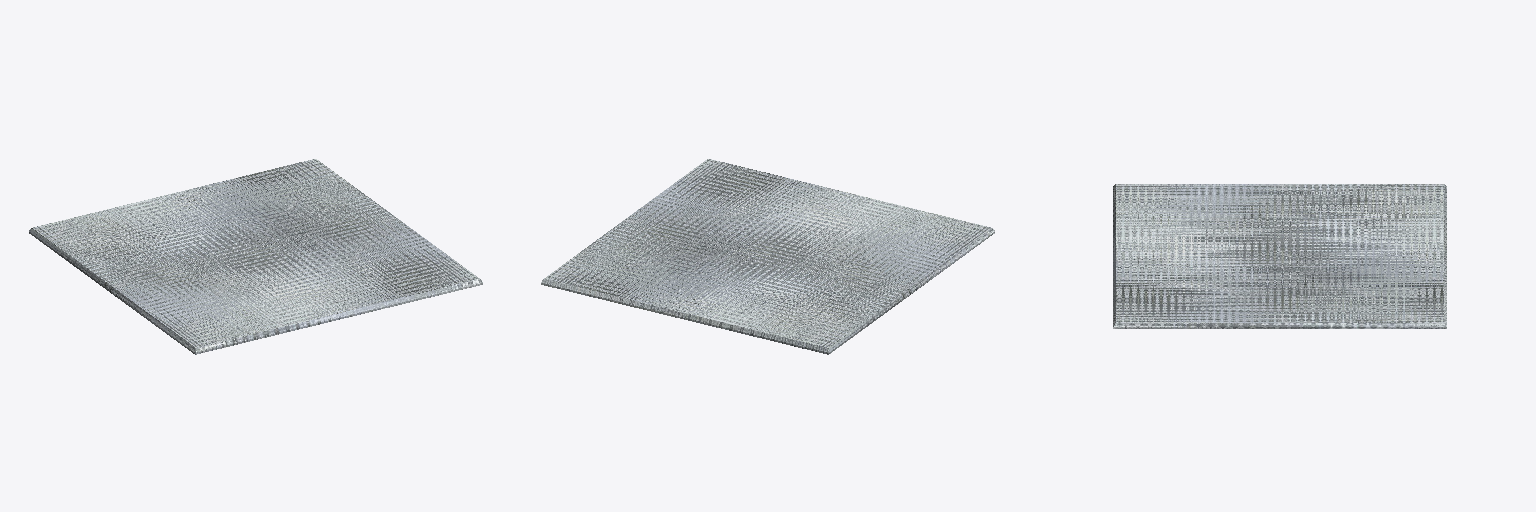
3 views of the same model, side by side, from view 1: azimuth 30°, elevation 25°; view 2: azimuth 150°, elevation 25°; view 3: azimuth 270°, elevation 25° (orthographic).
Parts seen in each view (by area): view 1: nightstand-glass; view 2: nightstand-glass; view 3: nightstand-glass.
Boxes of the visible parts, <box> form: nightstand-glass: <box>29,159,482,354</box>; nightstand-glass: <box>541,159,994,354</box>; nightstand-glass: <box>1113,184,1446,328</box>.
Size of the model in its own units: 0.4199 by 0.0076 by 0.4206.
Materials: 1 (1 with a texture image).